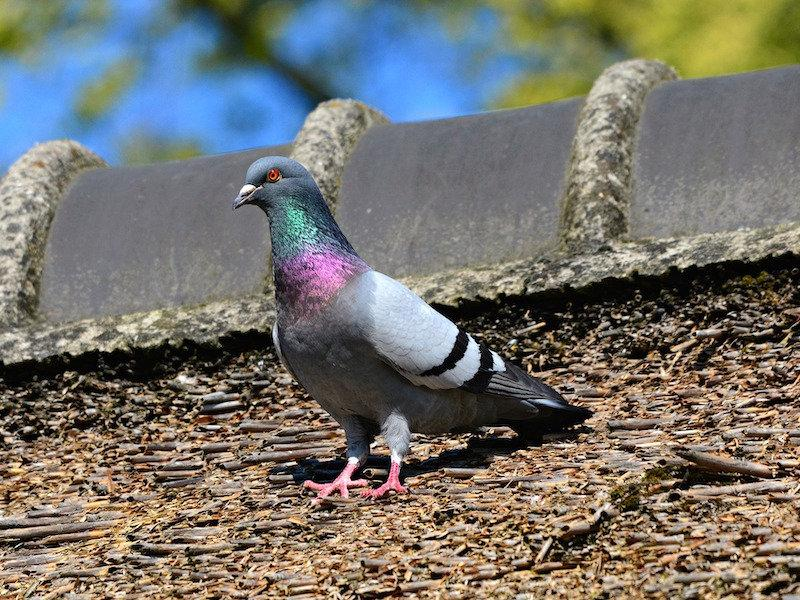Flying Rat: (233, 155, 562, 505)
